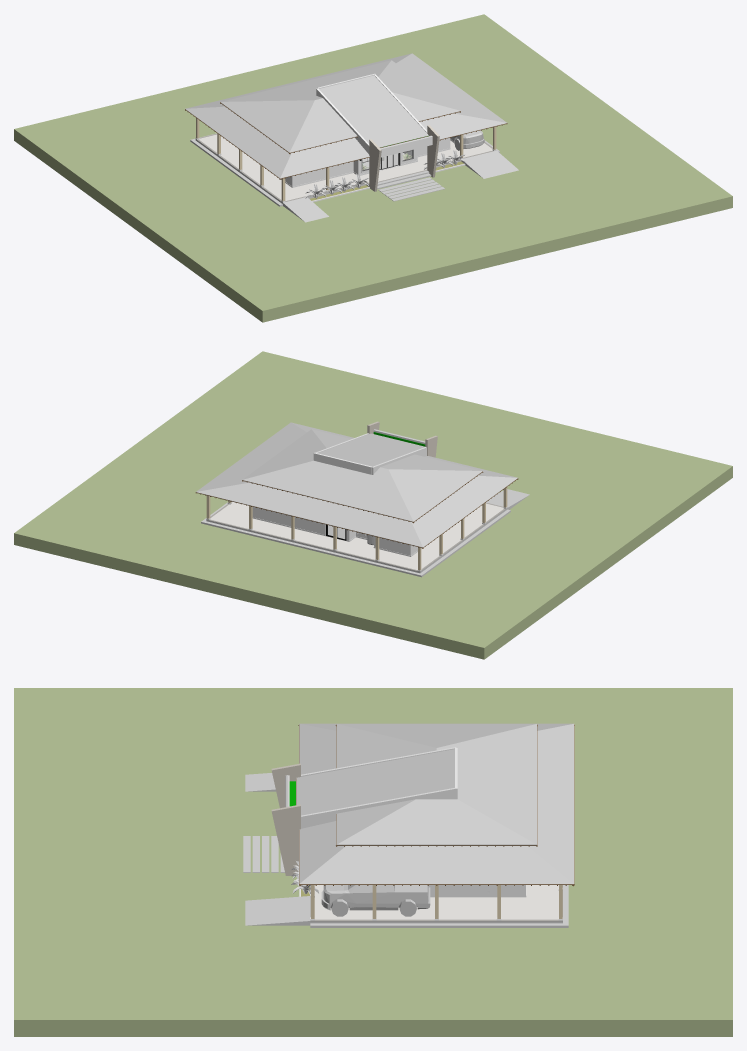
File: modelo.glb
3 views of the same model, one above another, from view 1: azimuth 30°, elevation 25°; view 2: azimuth 150°, elevation 25°; view 3: azimuth 270°, elevation 25° (orthographic). The views are drawn at different scales.
Parts seen in each view (by area): view 1: Terreno e paisagismo###84, Cobertura###0, Pisos e lajes###83, Pisos e lajes###77, Pisos e lajes###79, Paredes###76, Terreno e paisagismo###85, Estrutura###30, Estrutura###29, Esquadrias###23; view 2: Terreno e paisagismo###84, Cobertura###0, Pisos e lajes###79, Paredes###76, Pisos e lajes###77, Pisos e lajes###83, Estrutura###29, Esquadrias###23, Pisos e lajes###80; view 3: Terreno e paisagismo###84, Cobertura###0, Pisos e lajes###83, Pisos e lajes###77, Pisos e lajes###79, Terreno e paisagismo###85, Paredes###76, Estrutura###30, Esquadrias###23, Pisos e lajes###80, Estrutura###29.
Part boxes in pixels (box(x1,y1,x2,y2)): Terreno e paisagismo###84: box(14, 14, 732, 322); Cobertura###0: box(185, 53, 506, 178); Pisos e lajes###83: box(319, 75, 428, 147); Pisos e lajes###77: box(190, 133, 518, 222); Pisos e lajes###79: box(199, 134, 492, 200); Paredes###76: box(195, 73, 496, 202); Terreno e paisagismo###85: box(305, 130, 484, 198); Estrutura###30: box(369, 125, 439, 191); Estrutura###29: box(196, 118, 496, 201); Esquadrias###23: box(185, 102, 507, 179); Terreno e paisagismo###84: box(14, 351, 732, 659); Cobertura###0: box(196, 422, 517, 547); Pisos e lajes###79: box(210, 502, 503, 569); Paredes###76: box(206, 430, 507, 571); Pisos e lajes###77: box(201, 489, 529, 577); Pisos e lajes###83: box(318, 433, 424, 466); Estrutura###29: box(206, 487, 507, 570); Esquadrias###23: box(195, 471, 518, 548); Pisos e lajes###80: box(206, 501, 506, 571); Terreno e paisagismo###84: box(14, 688, 732, 1036); Cobertura###0: box(299, 723, 574, 884); Pisos e lajes###83: box(296, 749, 454, 815); Pisos e lajes###77: box(243, 773, 568, 927); Pisos e lajes###79: box(314, 885, 558, 919); Terreno e paisagismo###85: box(291, 861, 430, 916); Paredes###76: box(299, 747, 562, 920); Estrutura###30: box(271, 763, 300, 875); Esquadrias###23: box(296, 724, 574, 886); Pisos e lajes###80: box(310, 885, 562, 921); Estrutura###29: box(311, 885, 562, 918).
Bounding box in the file's own units: 42.12 × 6.15 × 38.56.
